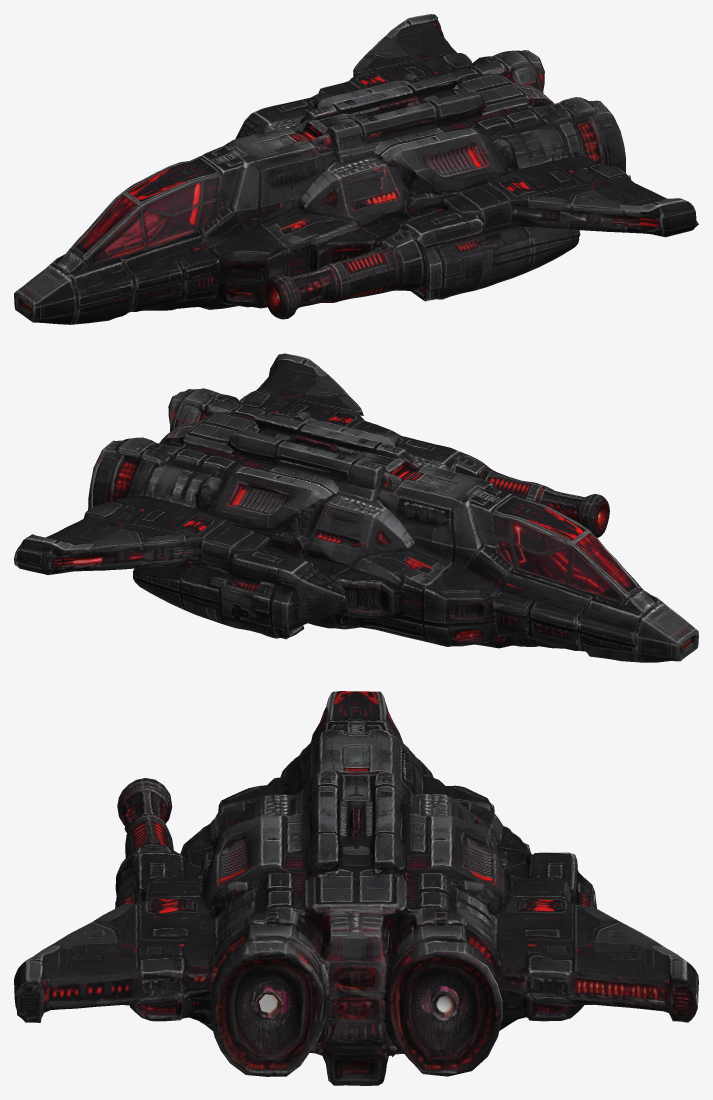
The model's file is ship7.glb.
3 views of the same model, one above another, from view 1: azimuth 30°, elevation 25°; view 2: azimuth 150°, elevation 25°; view 3: azimuth 270°, elevation 25° (orthographic). The views are drawn at different scales.
Parts seen in each view (by area): view 1: Mesh0; view 2: Mesh0; view 3: Mesh0.
Part boxes in pixels (left/top/right/bottom): Mesh0: left=14, top=14, right=698, bottom=324; Mesh0: left=14, top=353, right=698, bottom=662; Mesh0: left=14, top=691, right=698, bottom=1085.
Size of the model in its own units: 1.91 by 0.5095 by 1.6.
1 material, 1 textured.
